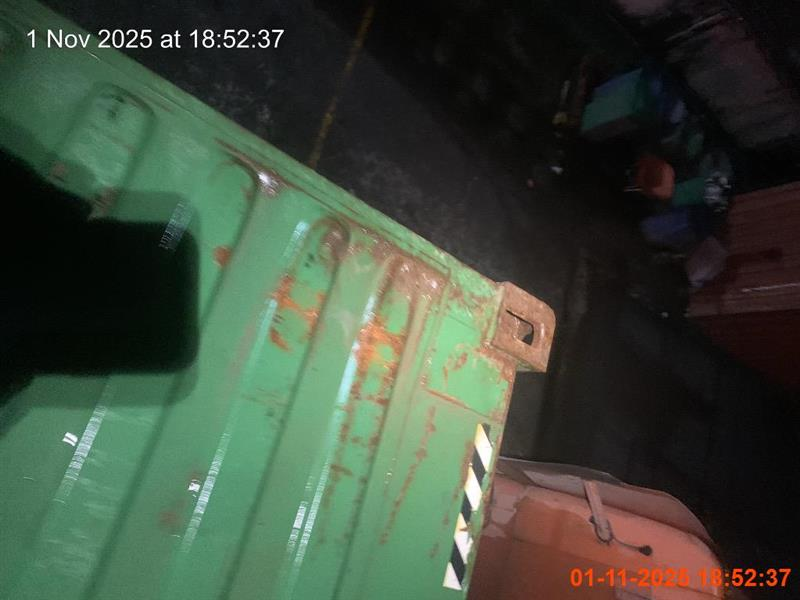hole: (0, 1, 558, 598), (467, 456, 727, 600)
